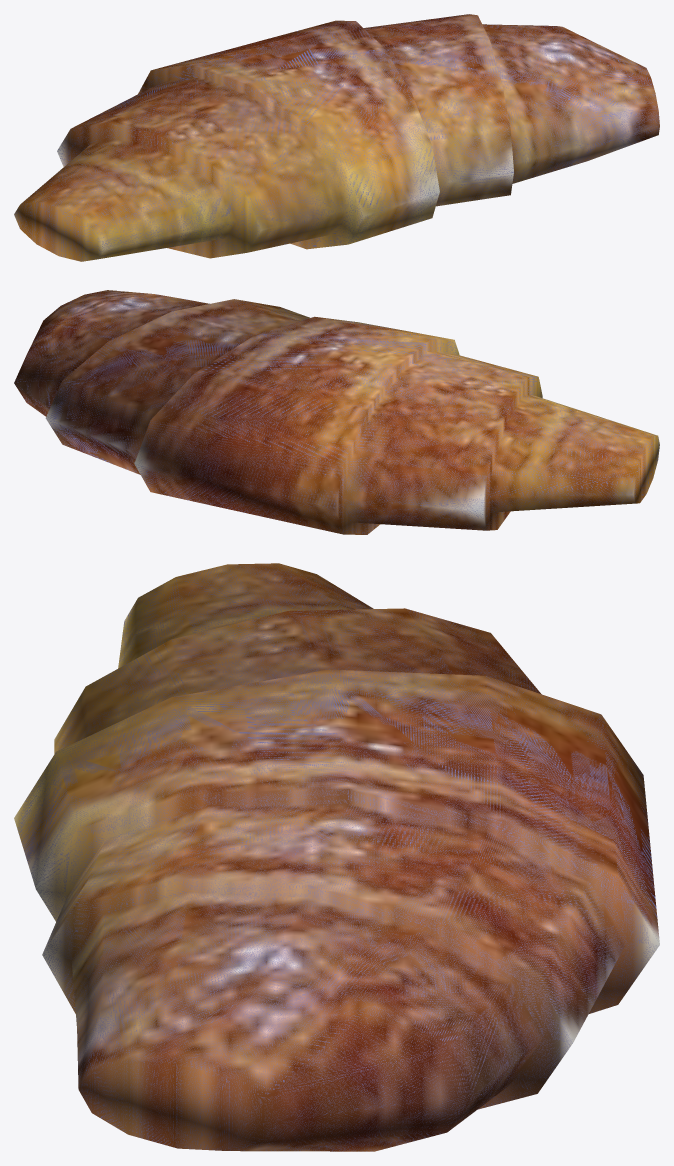
3 views of the same model, one above another, from view 1: azimuth 30°, elevation 25°; view 2: azimuth 150°, elevation 25°; view 3: azimuth 270°, elevation 25° (orthographic). The views are drawn at different scales.
Parts seen in each view (by area): view 1: Groupe_1 (×5); view 2: Groupe_1 (×5); view 3: Groupe_1 (×5).
Boxes of the visible parts, x1,y1,x2,y2 form: Groupe_1 (×5): (14, 14, 659, 261); Groupe_1 (×5): (14, 290, 659, 534); Groupe_1 (×5): (14, 563, 659, 1151).
Bounding box in the file's own units: 4.36 × 2.25 × 0.9779.
Materials: 2 (1 with a texture image).
